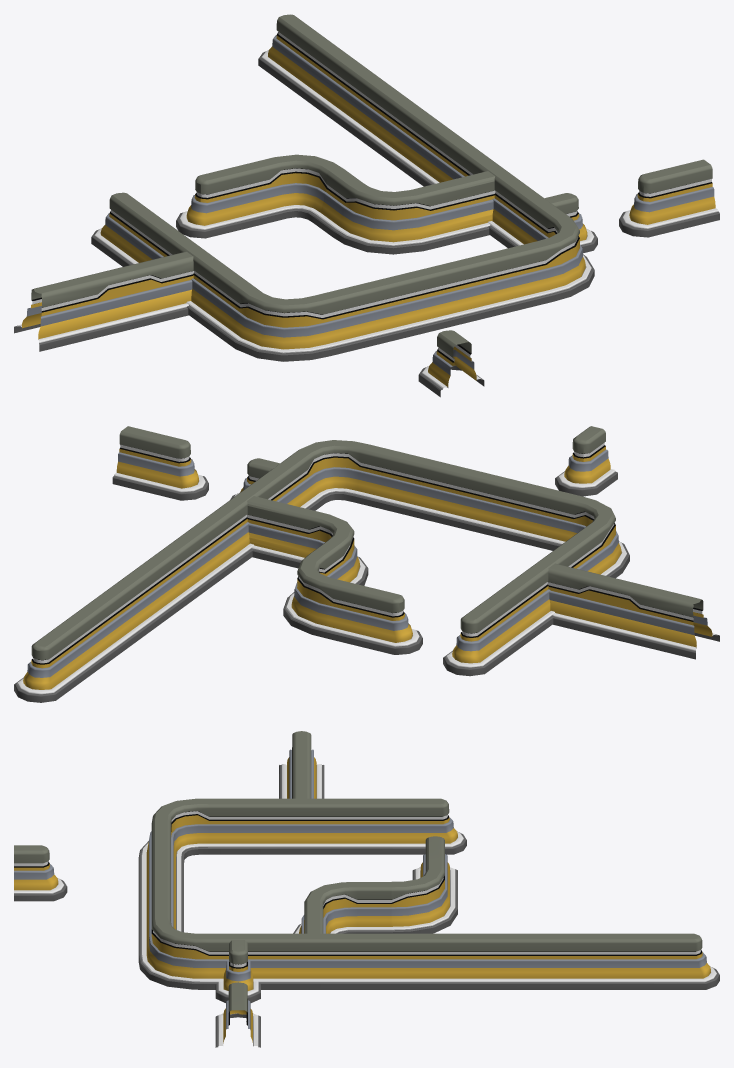
The model's file is Level31_Small_walls.fbx.
3 renders of one model, top to bottom at view 1: azimuth 30°, elevation 25°; view 2: azimuth 150°, elevation 25°; view 3: azimuth 270°, elevation 25°, orthographic. The views are drawn at different scales.
Visible parts, largest first — view 1: Small_wall_L6, Small_wall_L7, Small_wallv1_4, Small_wall_L62, Small_wall_L61, Small_wall_L63; view 2: Small_wall_L6, Small_wall_L7, Small_wallv1_4, Small_wall_L62, Small_wall_L61, Small_wall_L63; view 3: Small_wall_L6, Small_wall_L7, Small_wall_L61, Small_wallv1_4, Small_wall_L62, Small_wall_L63.
Part boxes in pixels (<box>): Small_wall_L6: <box>91,14,594,361</box>; Small_wall_L7: <box>176,154,495,254</box>; Small_wallv1_4: <box>14,251,194,351</box>; Small_wall_L62: <box>619,159,719,237</box>; Small_wall_L61: <box>418,330,484,397</box>; Small_wall_L63: <box>544,193,597,253</box>; Small_wall_L6: <box>14,440,629,702</box>; Small_wall_L7: <box>247,496,422,654</box>; Small_wallv1_4: <box>547,563,719,659</box>; Small_wall_L62: <box>112,426,208,500</box>; Small_wall_L61: <box>555,426,617,496</box>; Small_wall_L63: <box>230,458,280,499</box>; Small_wall_L6: <box>138,798,719,989</box>; Small_wall_L7: <box>293,836,457,933</box>; Small_wall_L61: <box>14,845,67,901</box>; Small_wallv1_4: <box>279,731,324,798</box>; Small_wall_L62: <box>215,982,260,1047</box>; Small_wall_L63: <box>215,940,260,1002</box>.
Size of the model in its own units: 508 by 37.55 by 535.
